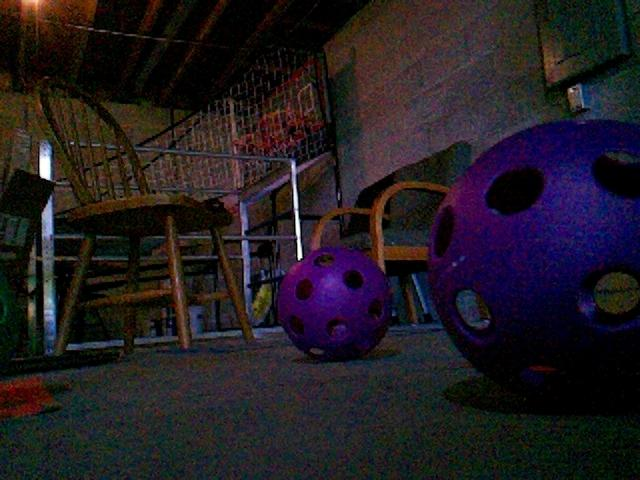Purple: (427, 121, 640, 408), (275, 247, 392, 361)
